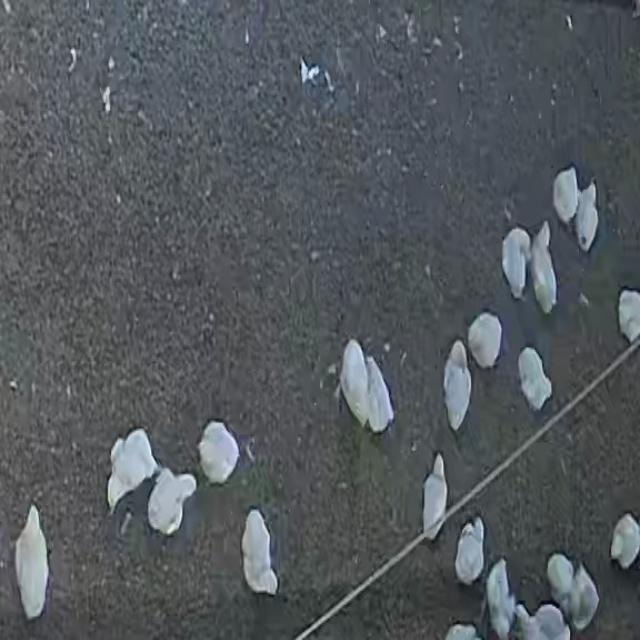chicken: (236, 508, 282, 599), (15, 507, 50, 619), (416, 448, 452, 544), (147, 469, 198, 536), (196, 416, 242, 482), (365, 351, 400, 437), (442, 341, 472, 433), (338, 340, 367, 427), (486, 556, 516, 640), (530, 224, 556, 312), (517, 347, 552, 412), (501, 227, 531, 300), (454, 517, 484, 585), (468, 311, 503, 369), (610, 514, 640, 572), (575, 183, 599, 250), (552, 168, 580, 225)
